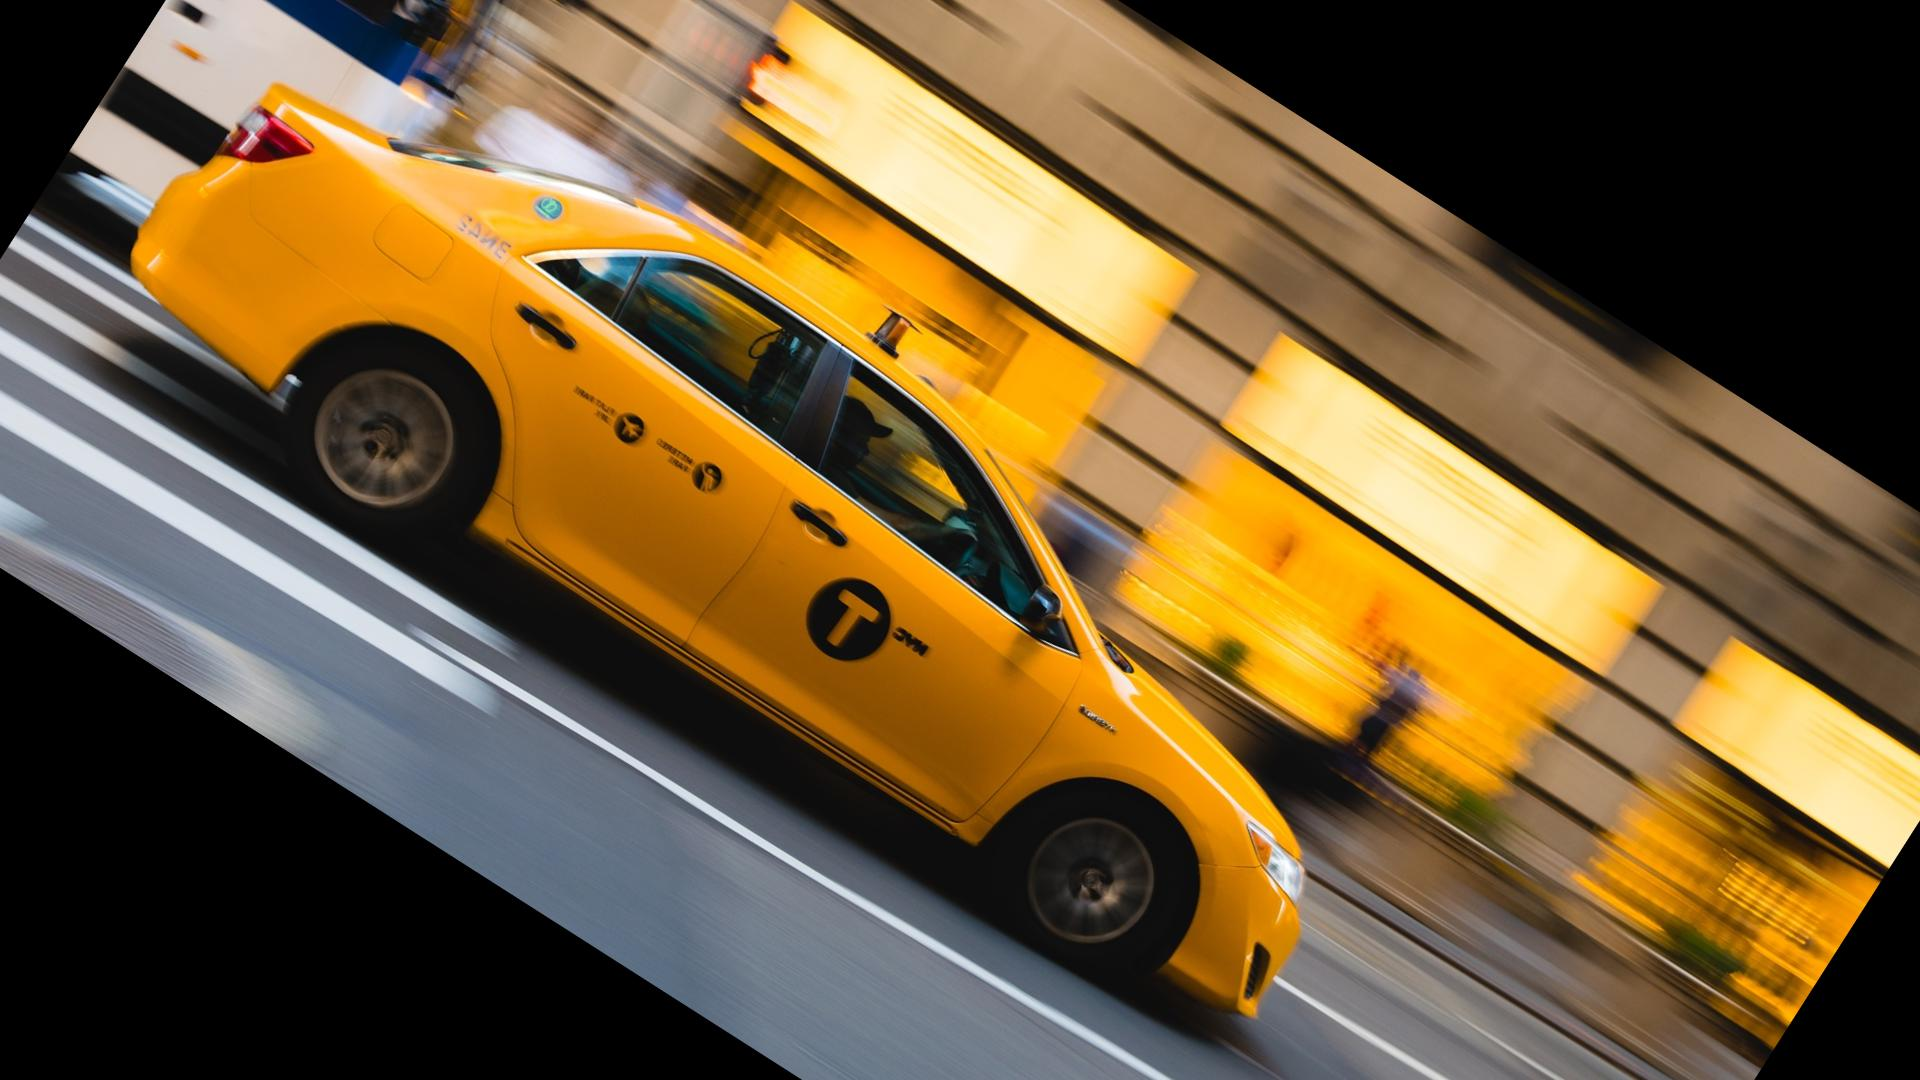taxi: (108, 73, 1294, 1033)
